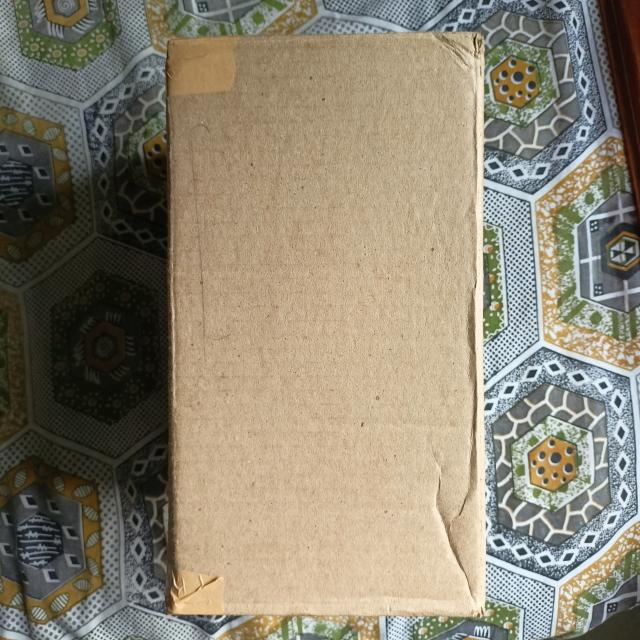box: (167, 32, 485, 616)
